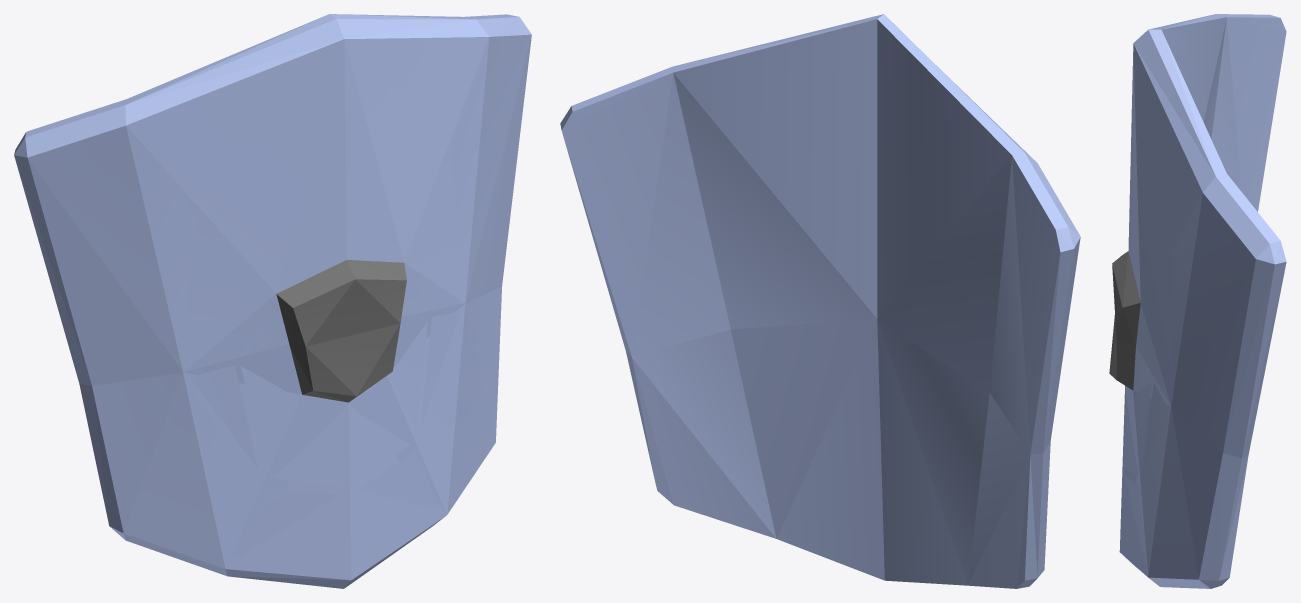
File: ShieldNormal.fbx
3 renders of one model, left to right at view 1: azimuth 30°, elevation 25°; view 2: azimuth 150°, elevation 25°; view 3: azimuth 270°, elevation 25°, orthographic. The views are drawn at different scales.
Parts seen in each view (by area): view 1: Shield FX, Normal Shield; view 2: Normal Shield, Shield FX; view 3: Normal Shield, Shield FX.
Part boxes in pixels (bbox=[...]): Shield FX: bbox=[15, 14, 528, 587]; Normal Shield: bbox=[14, 14, 531, 588]; Normal Shield: bbox=[560, 14, 1080, 588]; Shield FX: bbox=[576, 17, 1079, 587]; Normal Shield: bbox=[1109, 14, 1286, 588]; Shield FX: bbox=[1110, 14, 1283, 588].
Bounding box in the file's own units: 89.67 × 94.58 × 28.34.
